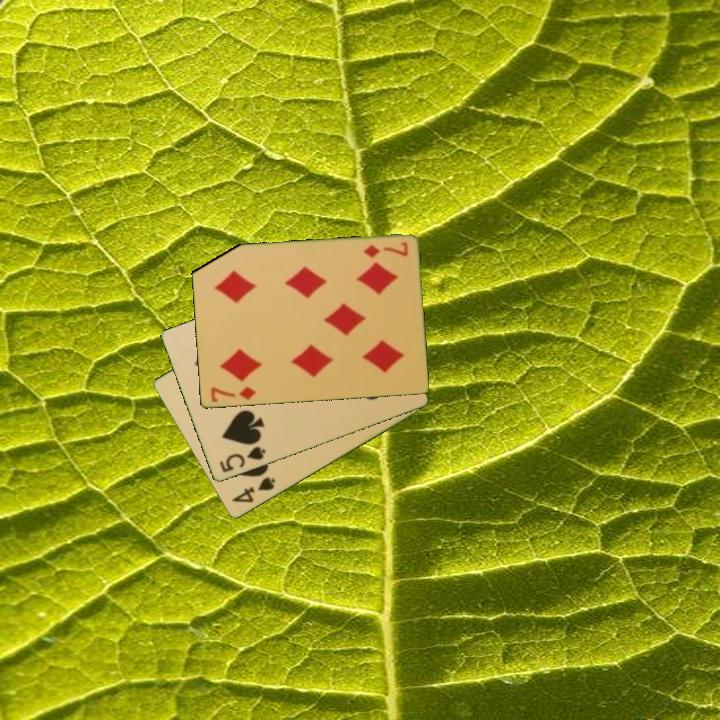4s: (228, 474, 278, 506)
5s: (216, 443, 269, 476)
7d: (207, 383, 259, 405), (360, 239, 410, 261)
